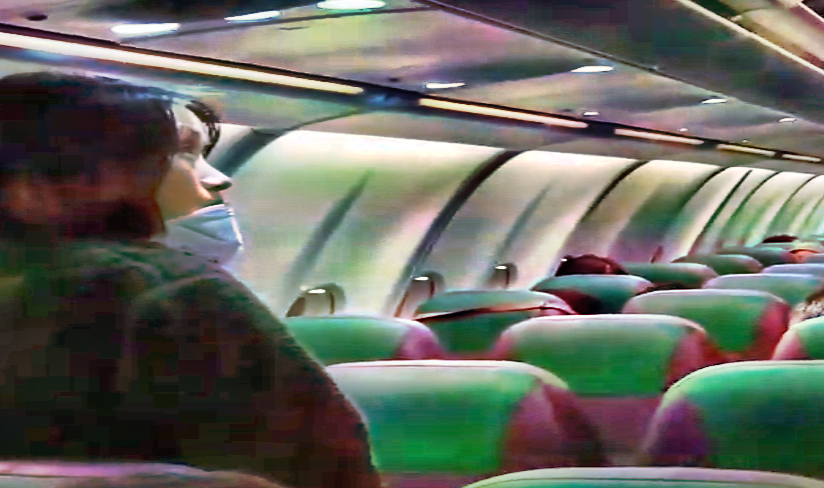mask_weared_incorrect: (55, 68, 247, 265)
